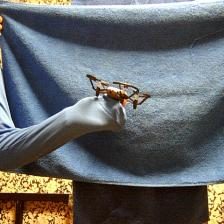drone: (85, 72, 153, 112)
